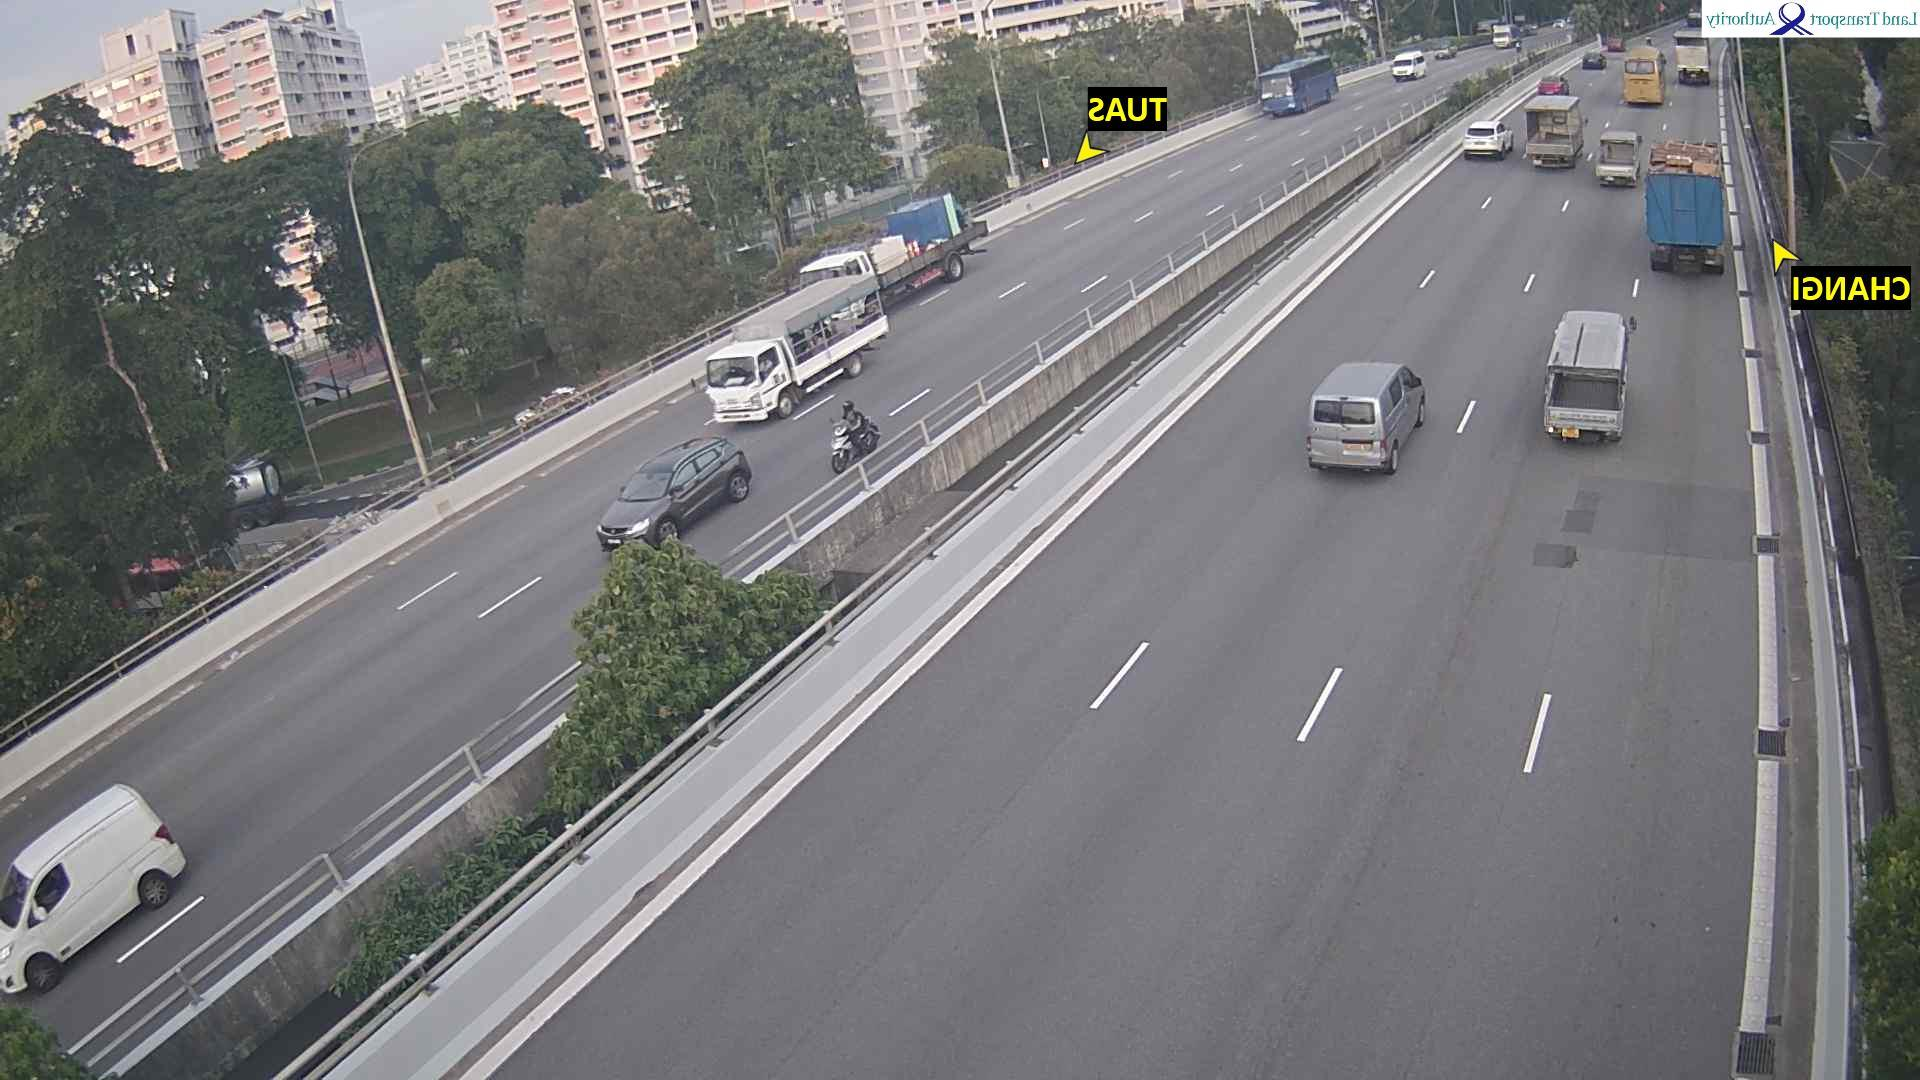cars: (1, 781, 189, 994), (596, 435, 753, 553), (1305, 359, 1428, 473), (516, 384, 592, 430), (1462, 119, 1515, 160), (1391, 50, 1428, 80), (1538, 75, 1571, 95), (1851, 109, 1874, 137), (1582, 50, 1607, 69), (1433, 42, 1458, 59), (1604, 36, 1627, 51), (1687, 8, 1704, 26), (1520, 18, 1539, 34), (1553, 18, 1565, 29), (1567, 16, 1576, 24)
motorcycle: (829, 415, 881, 473), (1642, 29, 1656, 47), (1514, 38, 1524, 54)
trucks: (702, 272, 891, 425), (798, 191, 990, 305), (1544, 309, 1639, 443), (1646, 142, 1729, 278), (1258, 51, 1341, 116), (1524, 92, 1588, 167), (1596, 127, 1644, 186), (1623, 46, 1668, 104), (1673, 30, 1710, 84), (1493, 24, 1520, 47), (1476, 17, 1501, 41)
